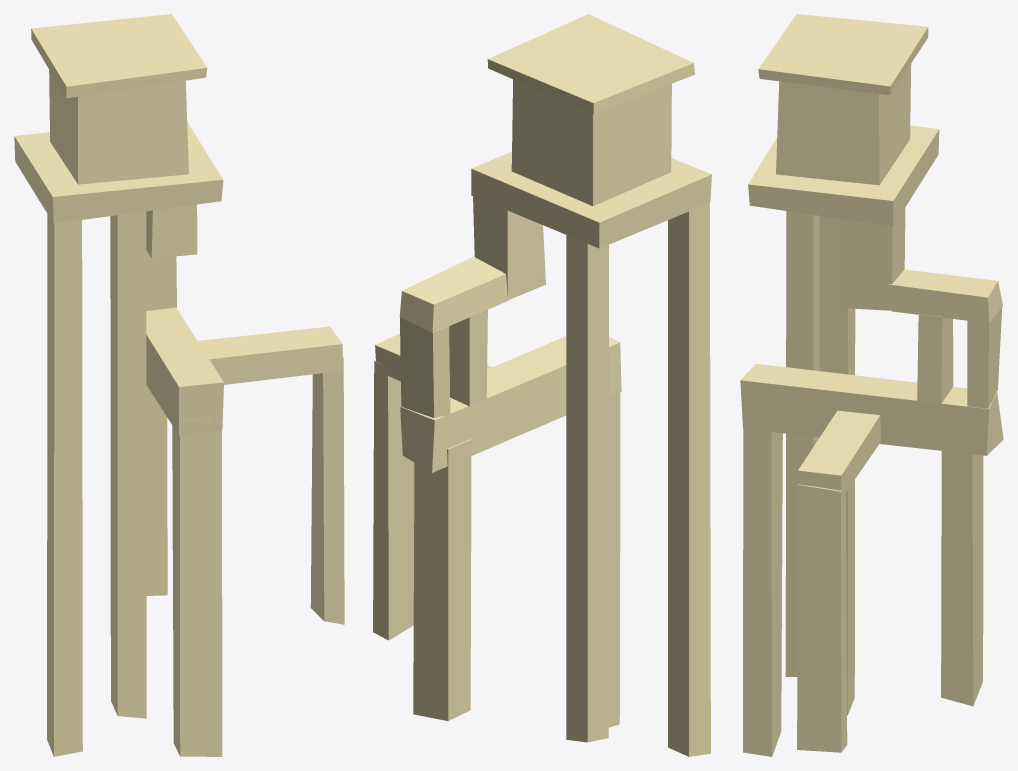
Rendered from tower.fbx.
3 views of the same model, side by side, from view 1: azimuth 30°, elevation 25°; view 2: azimuth 150°, elevation 25°; view 3: azimuth 270°, elevation 25° (orthographic). The views are drawn at different scales.
Parts seen in each view (by area): view 1: tower; view 2: tower; view 3: tower.
Boxes of the visible parts, left/top/right/bottom form: tower: left=14, top=14, right=344, bottom=756; tower: left=373, top=14, right=711, bottom=756; tower: left=740, top=14, right=1003, bottom=756.
Size of the model in its own units: 861 by 1861 by 652.
